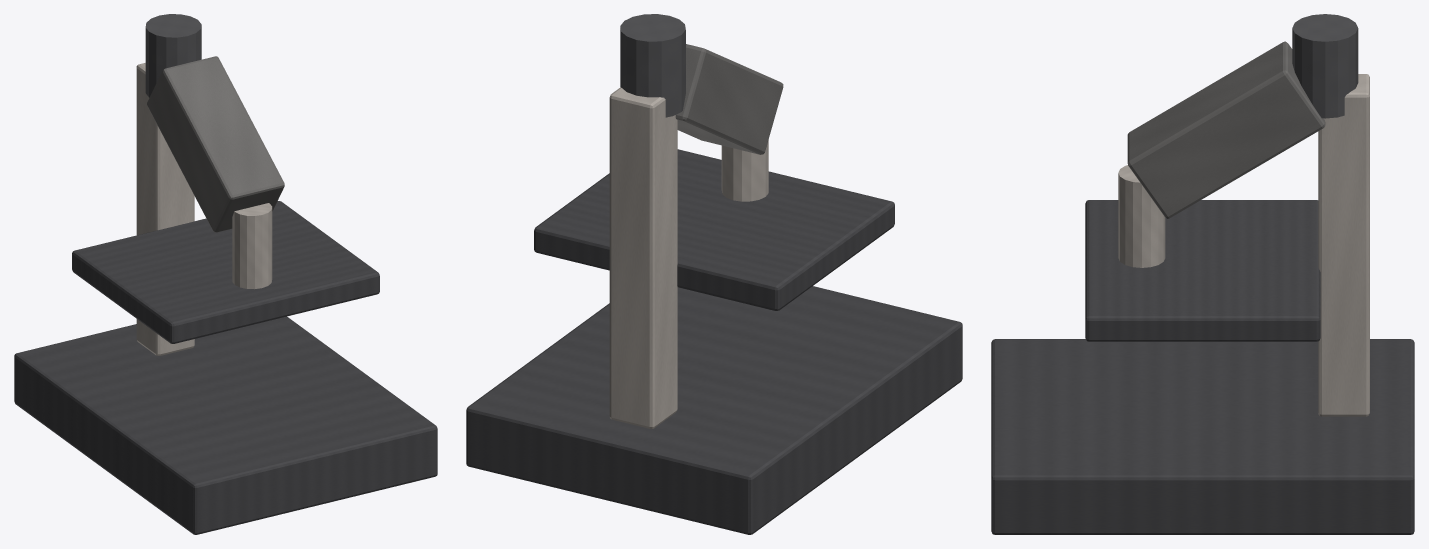
File: microscope.glb
The picture shows the model from 3 angles, left to right: view 1: azimuth 30°, elevation 25°; view 2: azimuth 150°, elevation 25°; view 3: azimuth 270°, elevation 25°; orthographic projection. The views are drawn at different scales.
Parts seen in each view (by area): view 1: base.018, stage, optical_body, support.004, objective, eyepiece; view 2: base.018, stage, support.004, optical_body, eyepiece, objective; view 3: base.018, stage, optical_body, support.004, eyepiece, objective.
Part boxes in pixels (x1,y1,x2,y2): base.018: (14,316,437,534); stage: (72,201,379,343); optical_body: (147,56,284,232); support.004: (136,63,194,355); objective: (232,203,272,289); eyepiece: (145,14,201,97); base.018: (466,286,962,534); stage: (534,149,894,310); support.004: (609,87,677,428); optical_body: (675,44,783,154); eyepiece: (620,14,685,117); objective: (721,140,768,201); base.018: (991,339,1414,534); stage: (1085,200,1320,341); optical_body: (1127,41,1325,218); support.004: (1318,74,1369,416); eyepiece: (1292,14,1358,118); objective: (1118,165,1165,267).
Size of the model in its own units: 0.35 by 0.515 by 0.45.
Materials: 4 (4 with a texture image).
